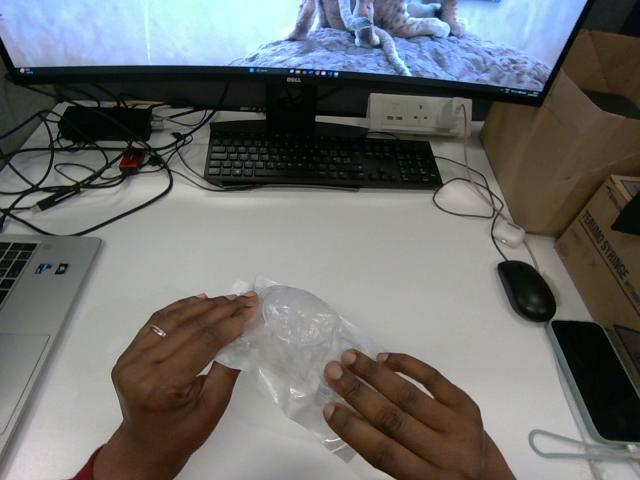gallipot: (216, 279, 382, 461)
